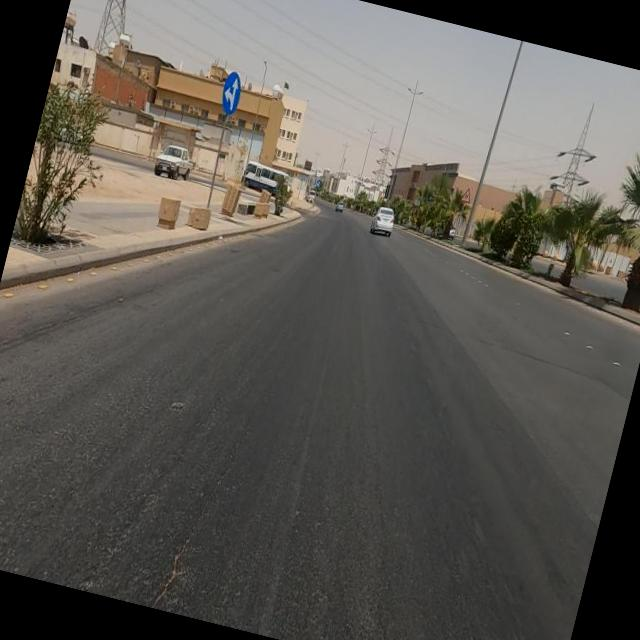debris: (203, 212, 239, 262)
